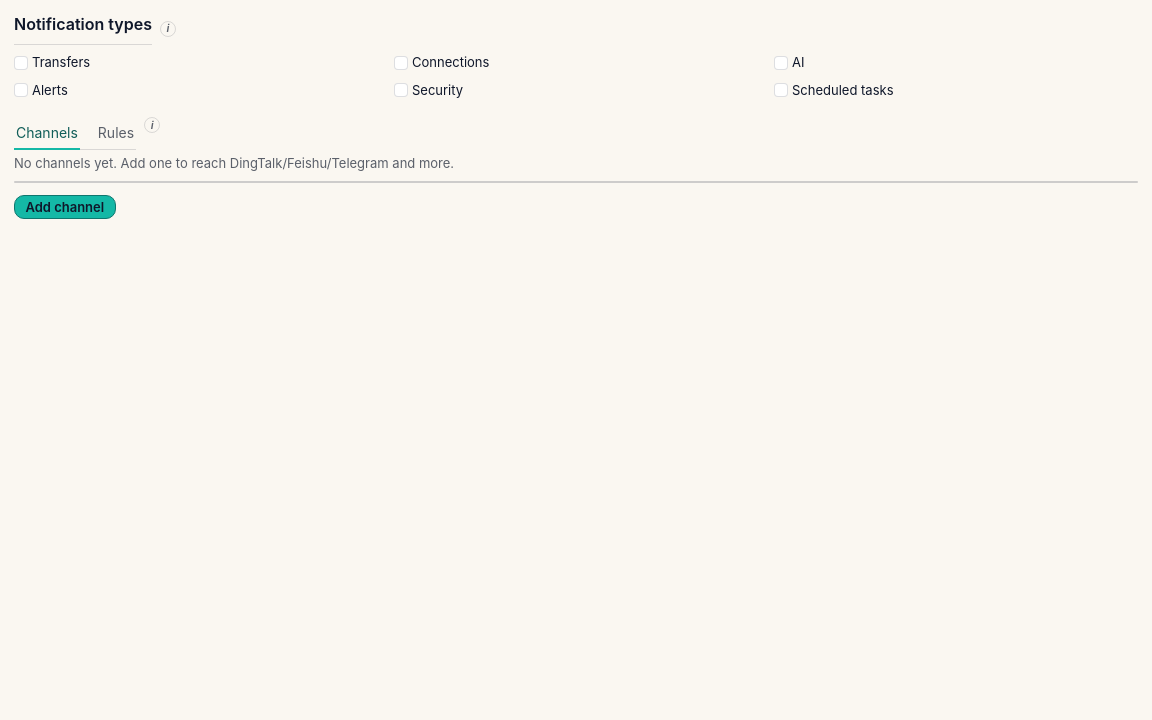
Test: AlertSettings 渠道区 › 必填校验：缺字段保存报错且不落库
Click the button with test id "alert-add-channel".
click(65, 207)  # box [14, 195, 116, 219]
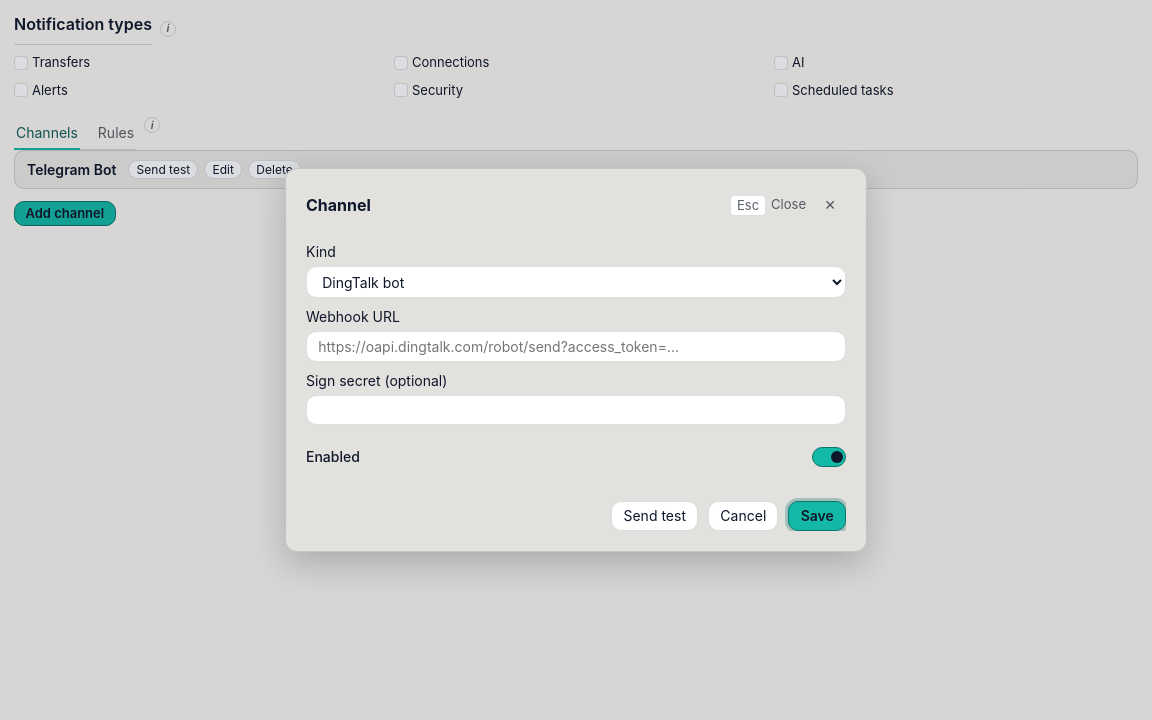
Select "Telegram Bot" in the dropdown with test id "alert-channel-kind" at (576, 282), box [306, 266, 846, 298]
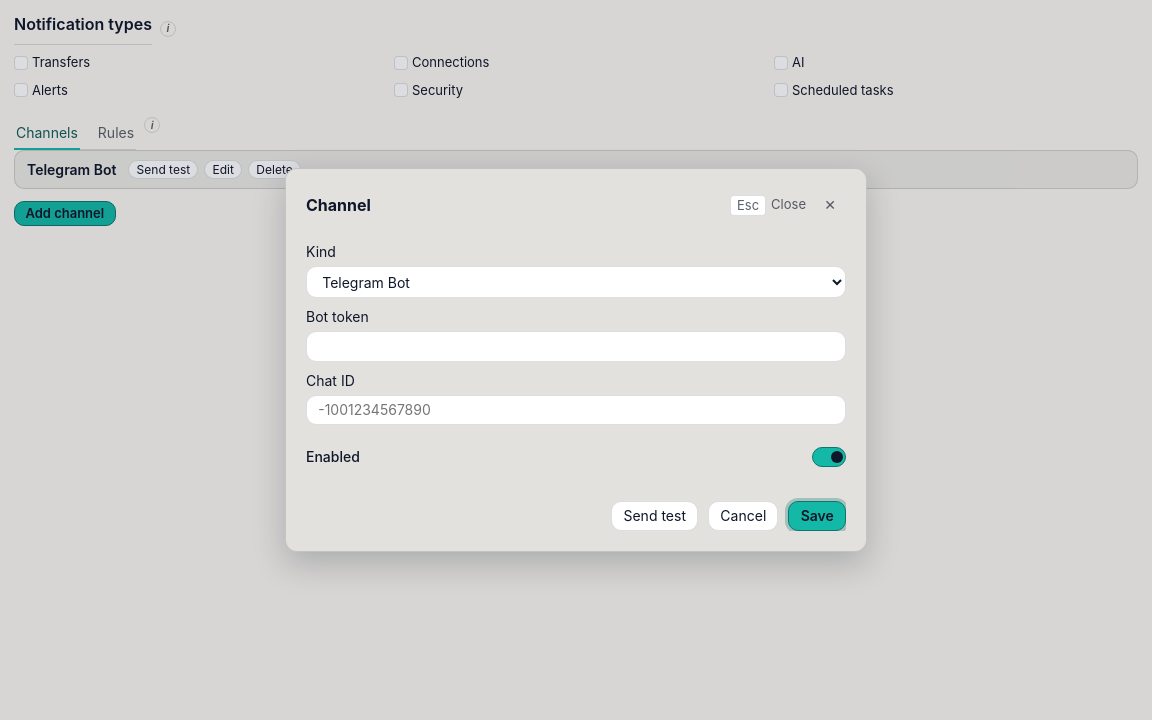
Click the button with test id "alert-channel-save".
click(817, 516)  # box [788, 501, 846, 531]
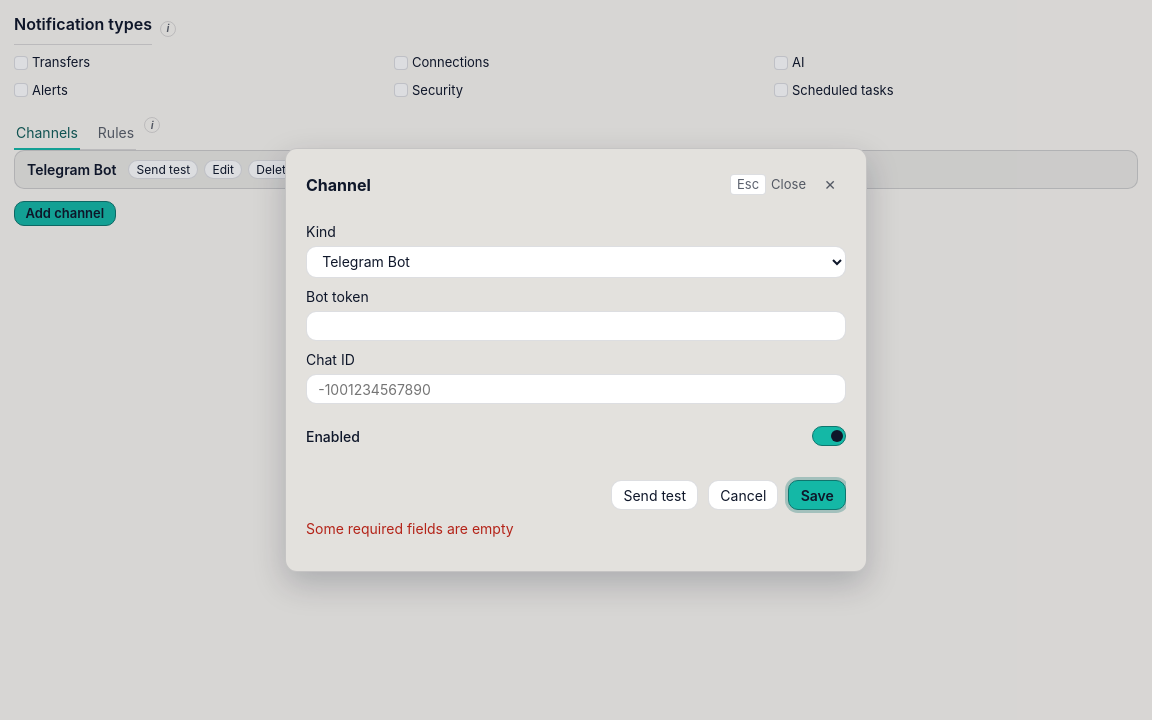
Check: the text "Some required fields are empty" is shown, box [306, 520, 514, 537]
